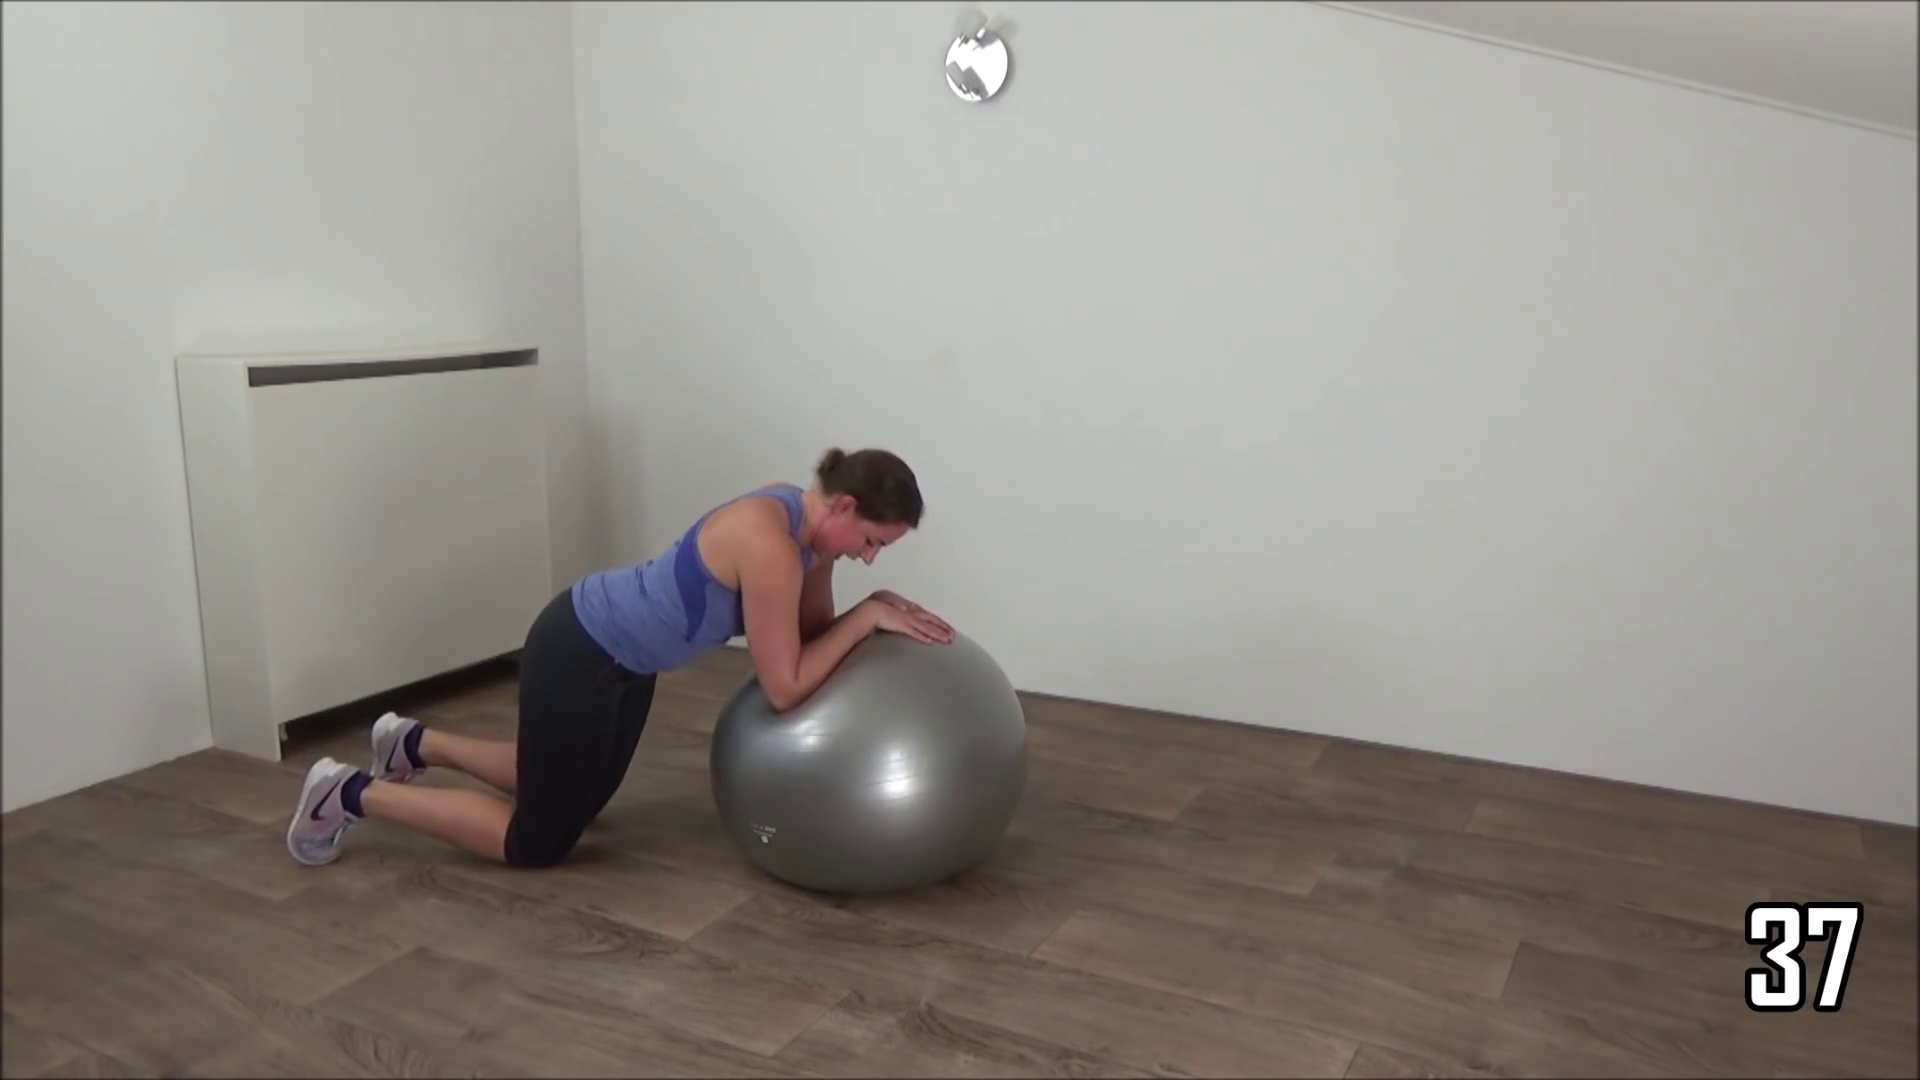yogaball: (711, 608, 1040, 927)
